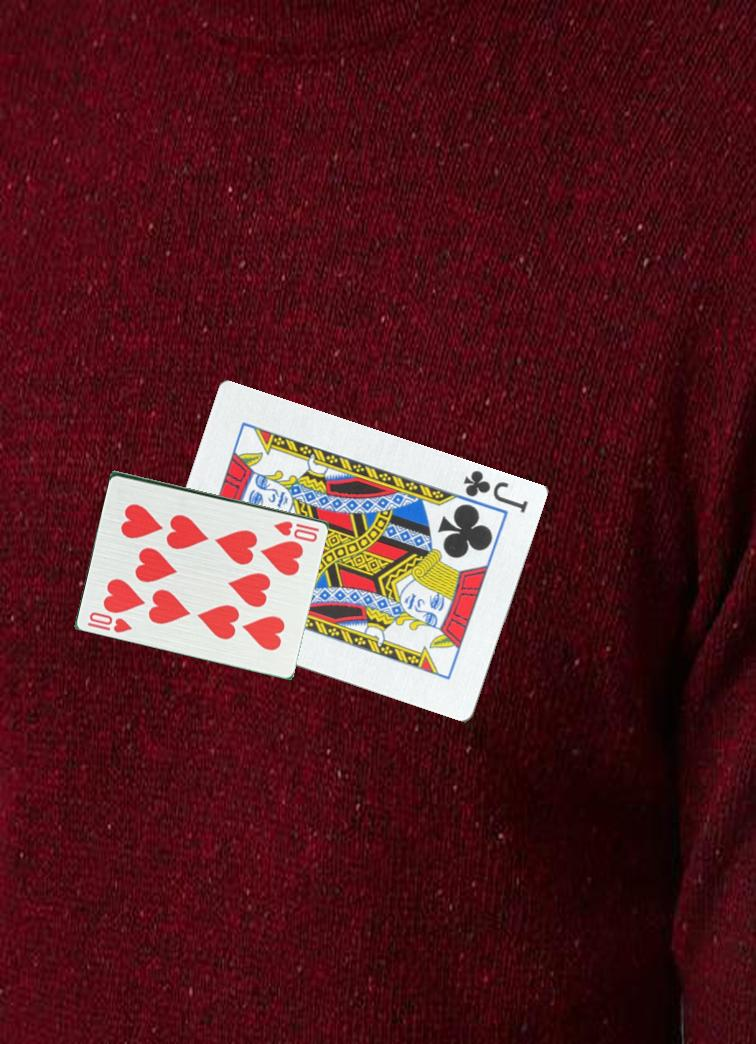jc: (459, 466, 531, 516)
th: (270, 517, 323, 544), (84, 608, 136, 635)
